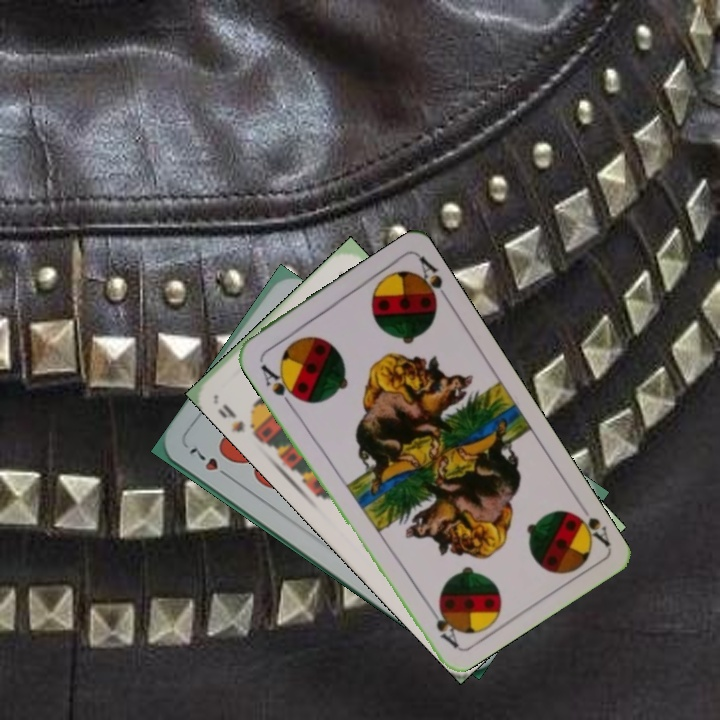H7: (185, 443, 235, 482)
S9: (213, 400, 262, 441)
SA: (563, 497, 613, 551), (256, 360, 302, 409)
